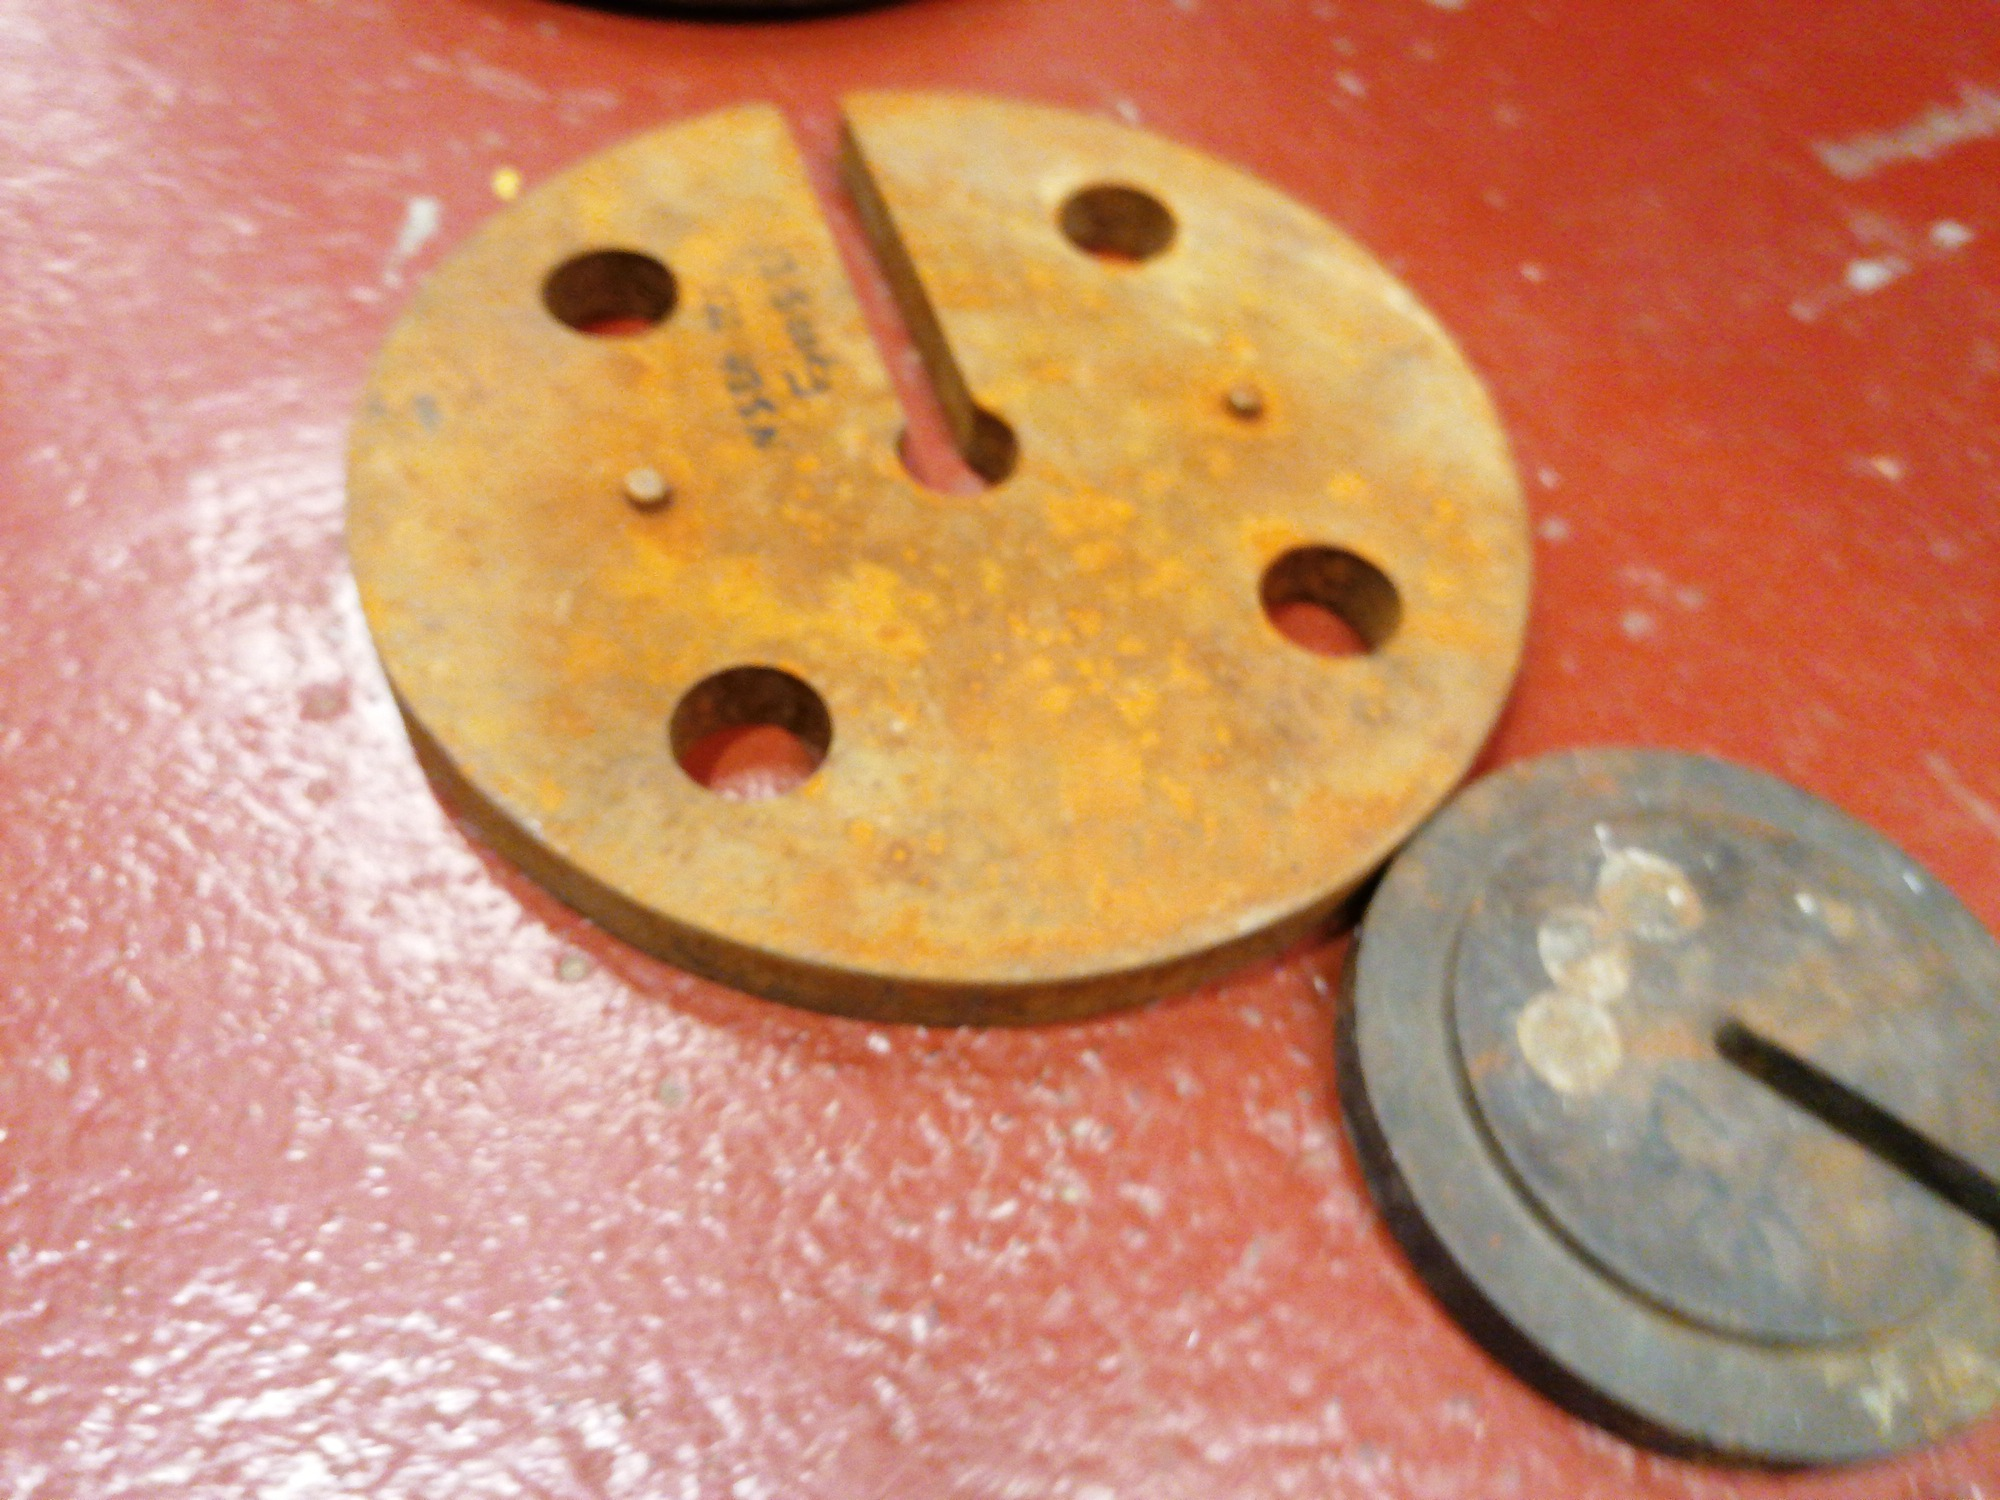flange: (343, 90, 1534, 1035), (1331, 741, 1998, 1473)
